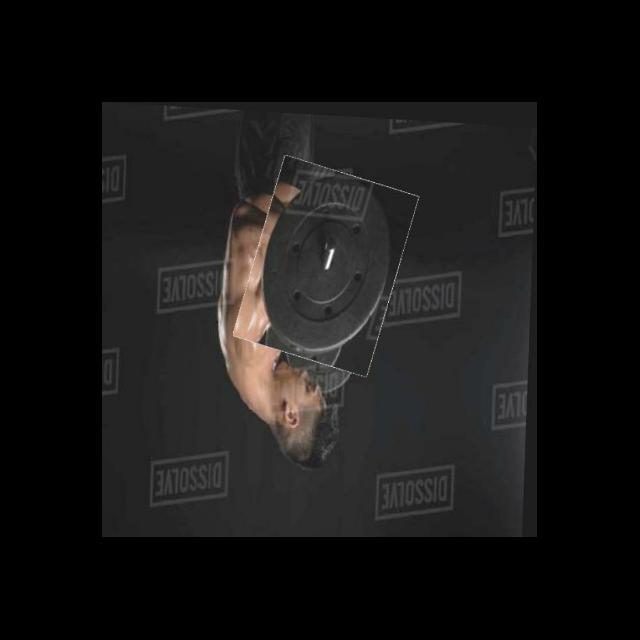barbell: (244, 158, 410, 369)
